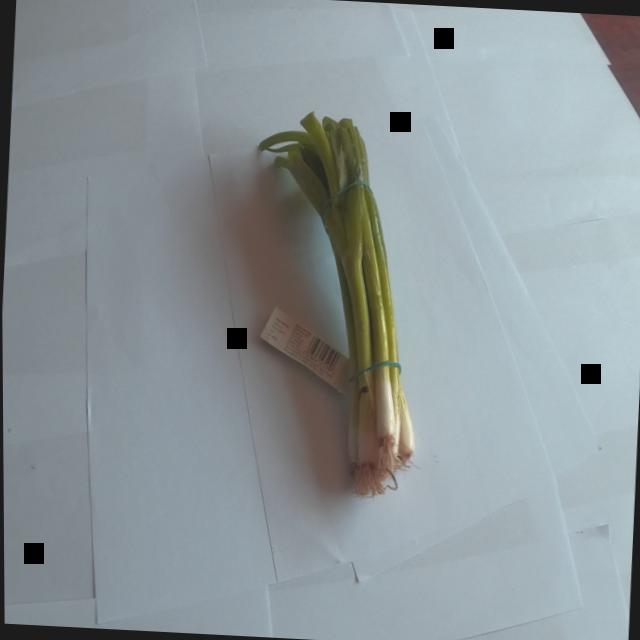Springonion: (214, 87, 456, 511)
